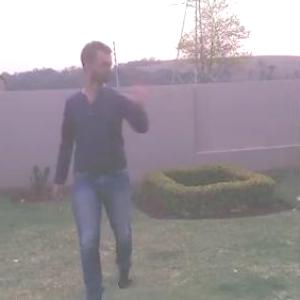follow_hand: (120, 70, 161, 106)
